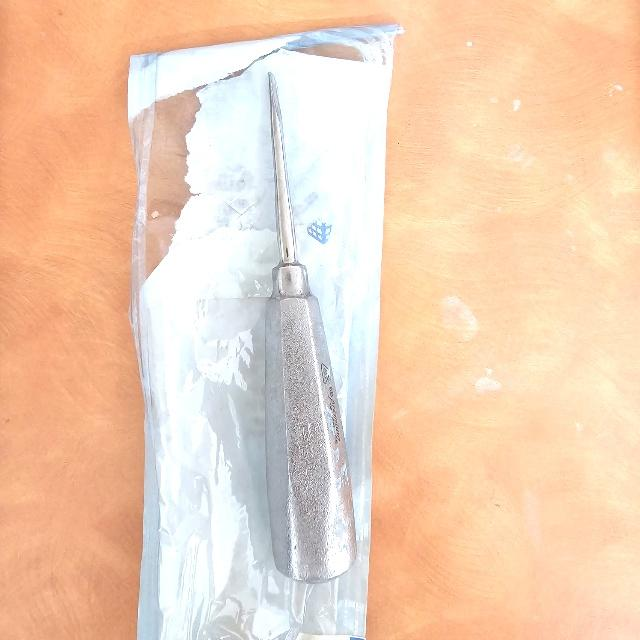botador: (262, 72, 357, 586)
